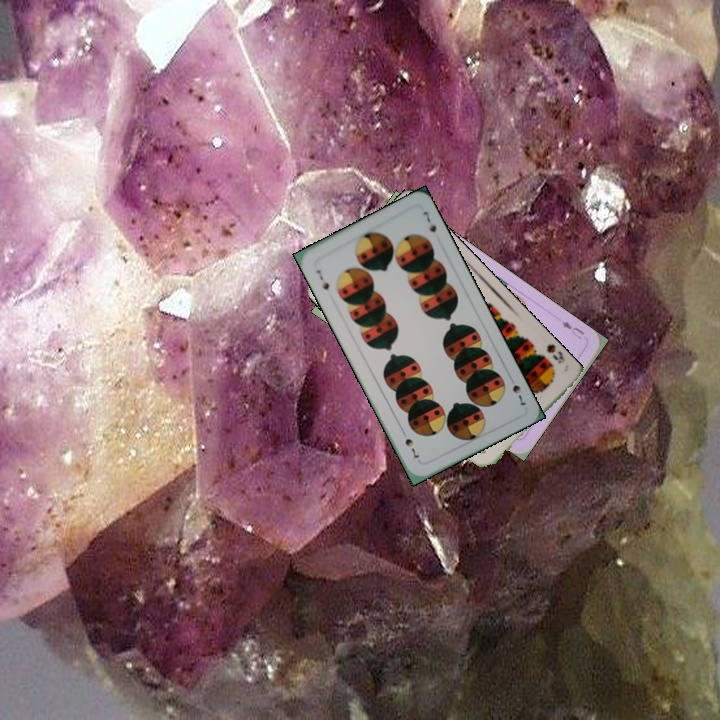EU: (558, 317, 587, 342)
S7: (508, 381, 528, 408), (312, 266, 332, 293)
S8: (542, 340, 568, 366)
